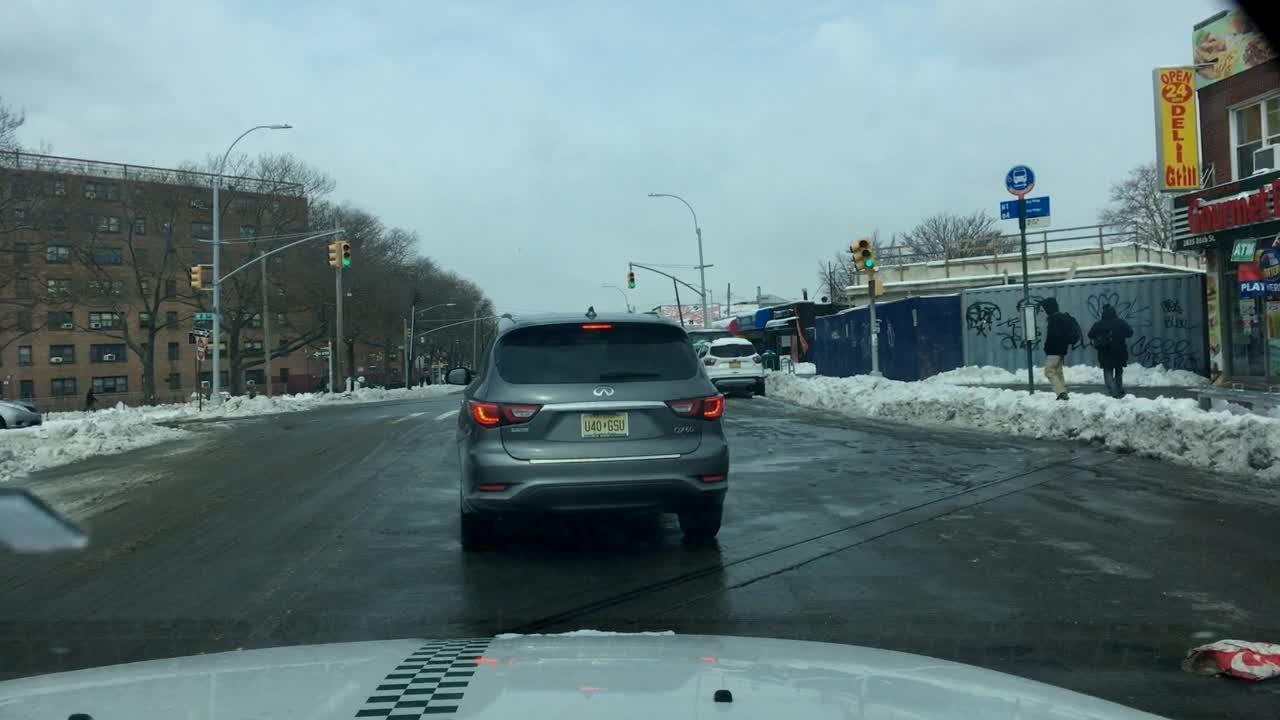Infiniti: (591, 382, 617, 400)
